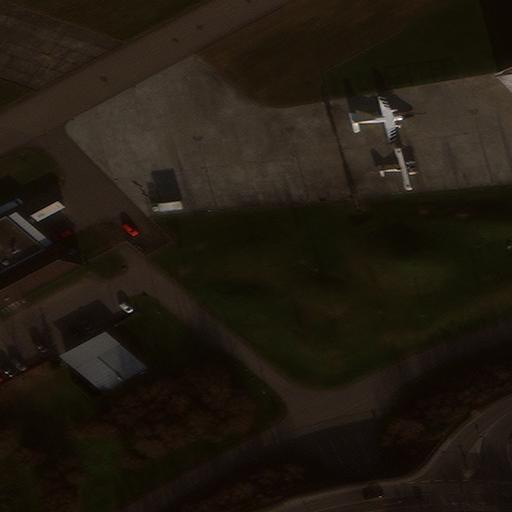Small Civil Transport: (351, 97, 424, 141), (379, 147, 420, 190)
